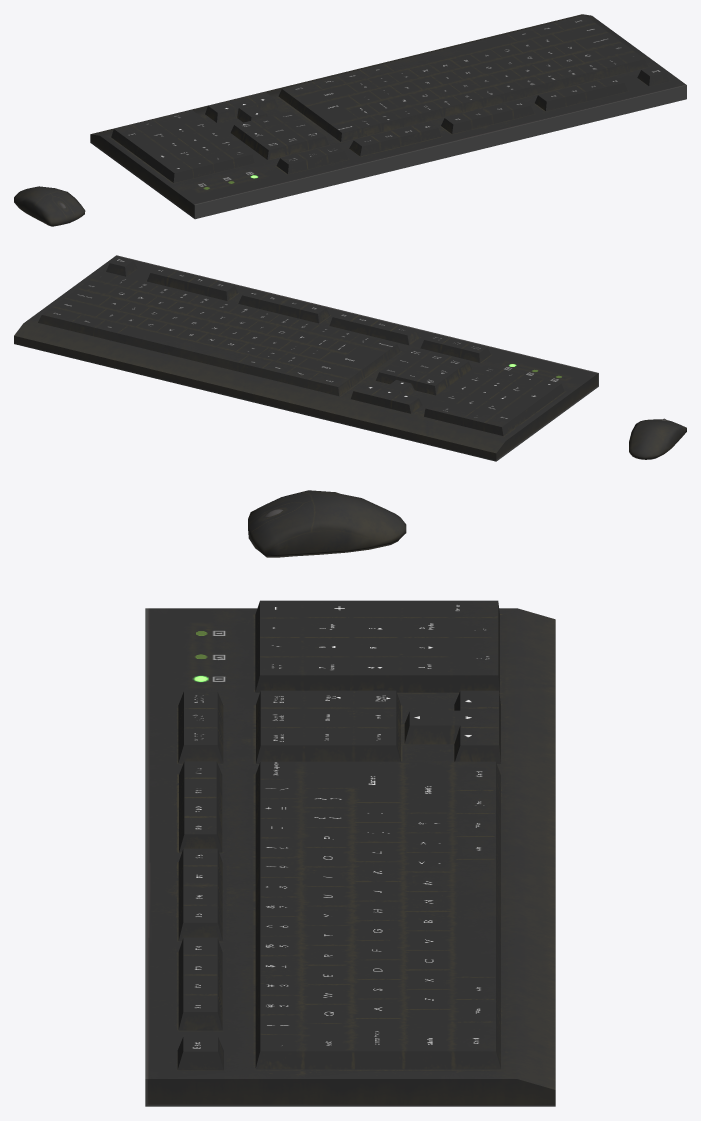
File: Keyboard_02.fbx
The picture shows the model from 3 angles, top to bottom: view 1: azimuth 30°, elevation 25°; view 2: azimuth 150°, elevation 25°; view 3: azimuth 270°, elevation 25°; orthographic projection. The views are drawn at different scales.
Parts seen in each view (by area): view 1: Keyboard_01_LOD00; view 2: Keyboard_01_LOD00; view 3: Keyboard_01_LOD00.
Part boxes in pixels (x1,y1,x2,y2): Keyboard_01_LOD00: (14, 14, 686, 226); Keyboard_01_LOD00: (14, 255, 686, 461); Keyboard_01_LOD00: (145, 490, 555, 1106).
Size of what is drawn, in the model's own units: 77.39 by 2.7 by 22.8.
